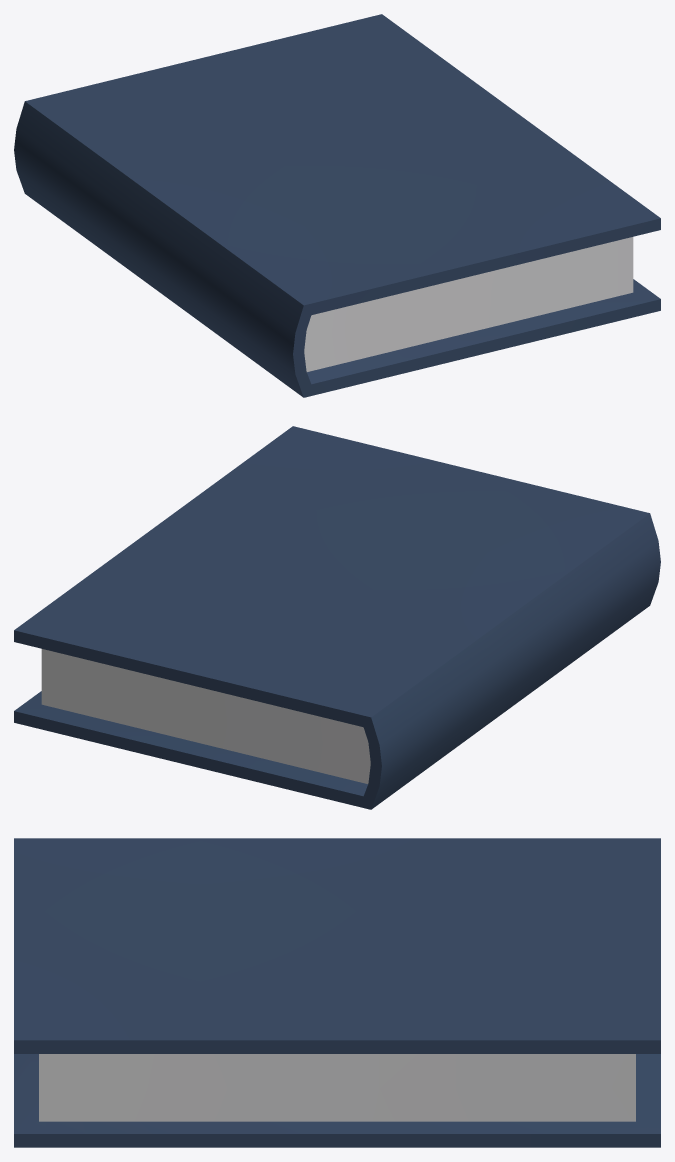
The model's file is SM_Props_Book_01.fbx.
3 views of the same model, one above another, from view 1: azimuth 30°, elevation 25°; view 2: azimuth 150°, elevation 25°; view 3: azimuth 270°, elevation 25° (orthographic). The views are drawn at different scales.
Visible parts, largest first — view 1: SM_Props_Book_01; view 2: SM_Props_Book_01; view 3: SM_Props_Book_01.
Boxes of the visible parts, box(x1,y1,x2,y2) form: SM_Props_Book_01: box(14, 14, 660, 397); SM_Props_Book_01: box(14, 426, 660, 809); SM_Props_Book_01: box(14, 838, 660, 1147).
Size of the model in its own units: 0.2639 by 0.0633 by 0.3465.
